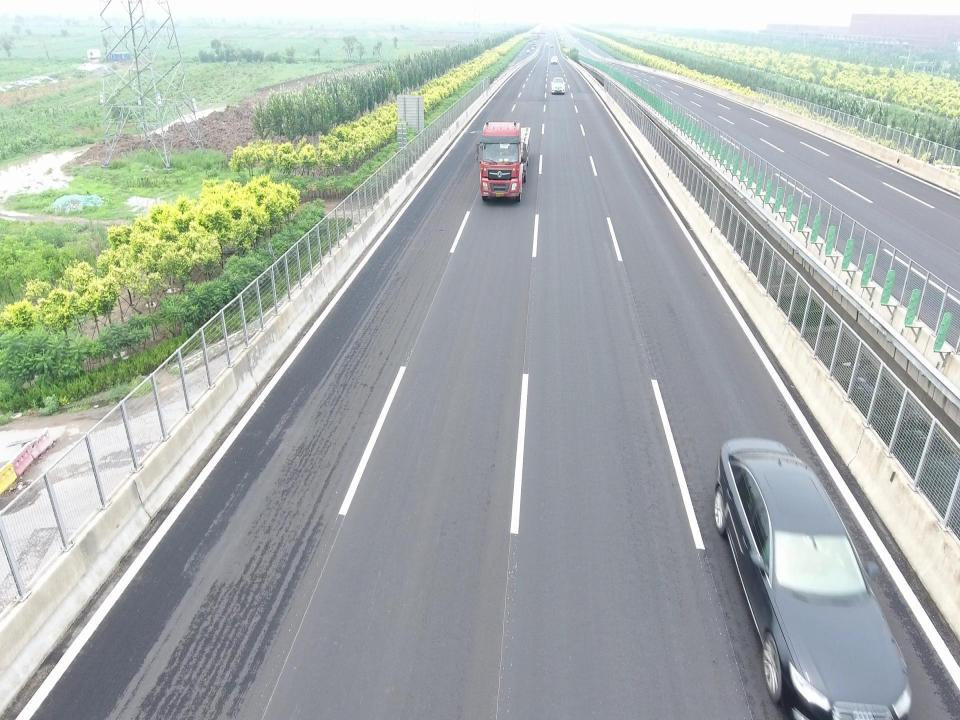bus: (532, 39, 536, 47)
car: (714, 436, 912, 720), (551, 77, 565, 94), (550, 55, 558, 65), (526, 50, 530, 54), (532, 47, 534, 50)
truck: (476, 120, 531, 201)
